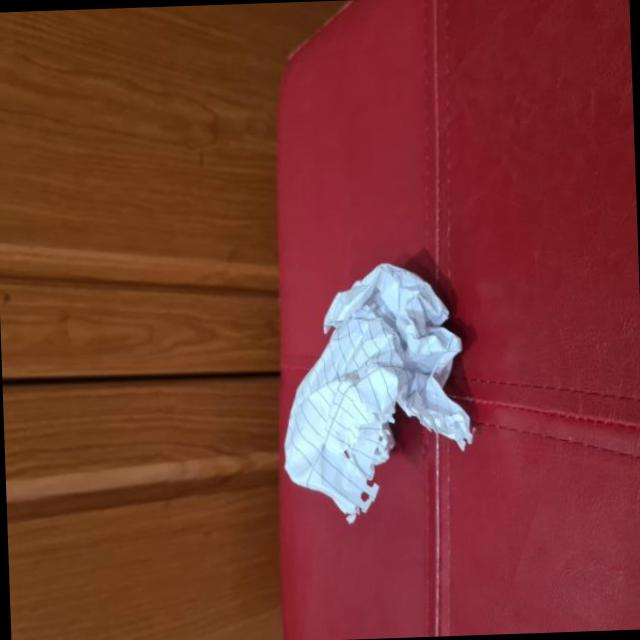cardboard paper: (284, 264, 470, 522)
